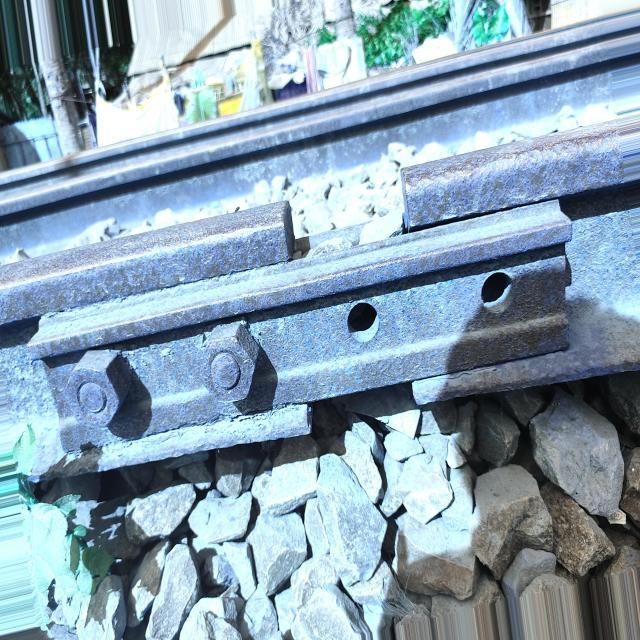Defective Joint: (25, 200, 571, 450)
